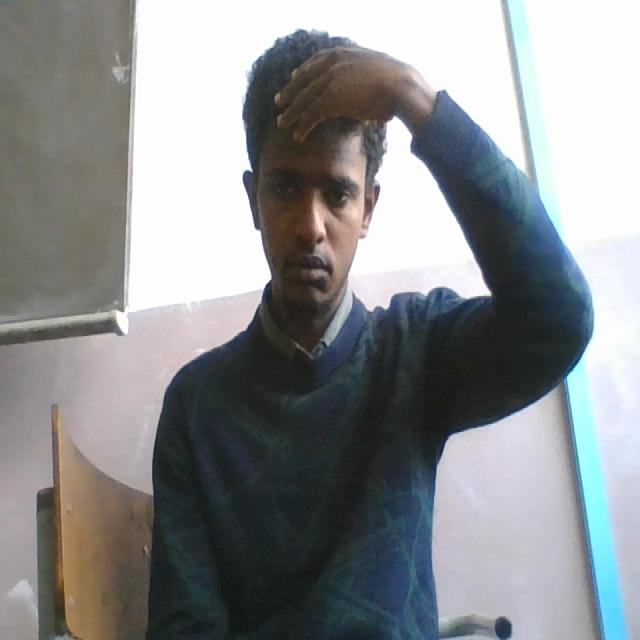mengist: (233, 32, 401, 170)
